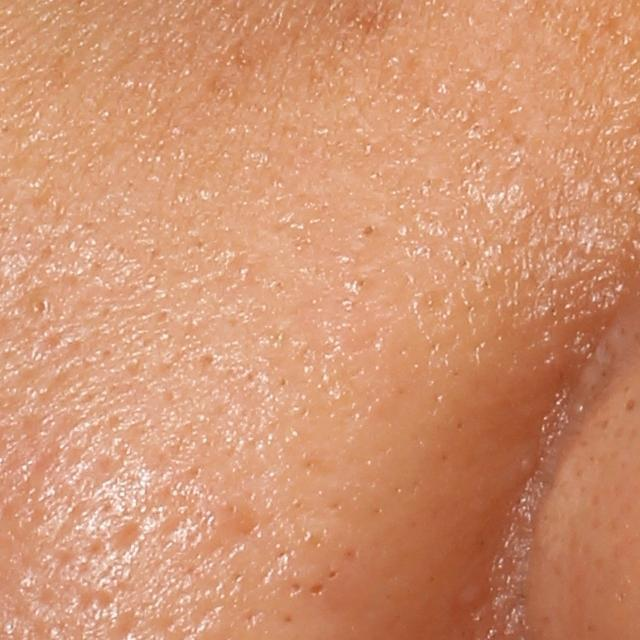atrophic_scar: (105, 519, 142, 559)
comedo: (27, 293, 54, 320), (361, 221, 377, 240)
melasma: (331, 3, 401, 44)
